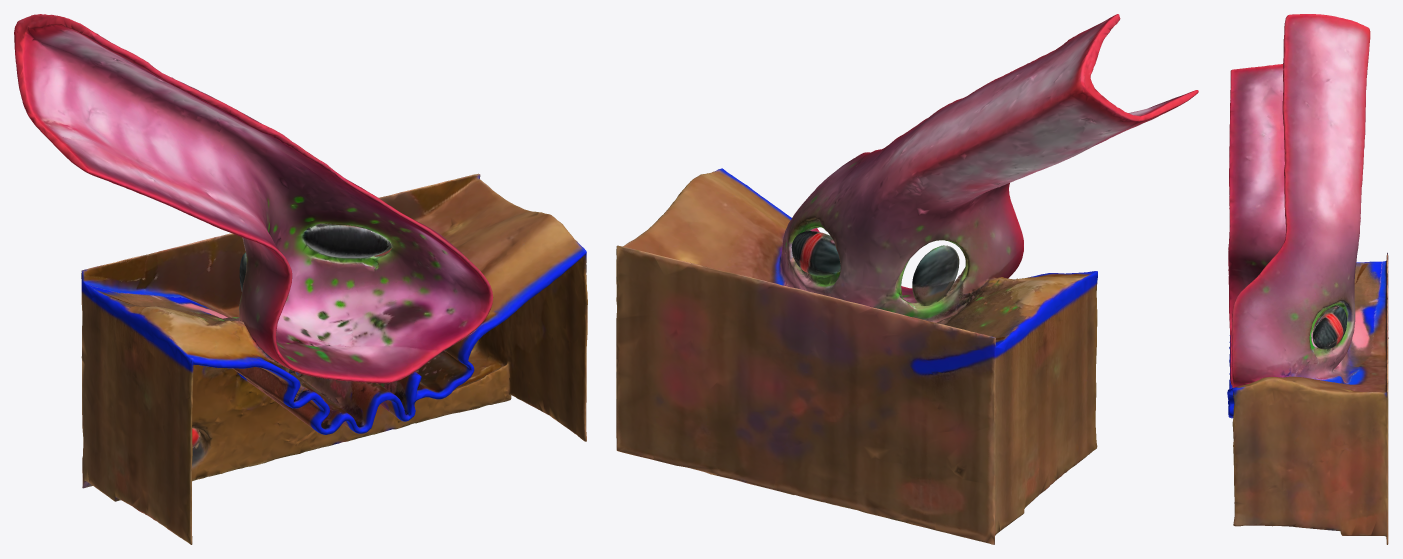
The model's file is neuromuscular-junction.glb.
The picture shows the model from 3 angles, left to right: view 1: azimuth 30°, elevation 25°; view 2: azimuth 150°, elevation 25°; view 3: azimuth 270°, elevation 25°; orthographic projection. The views are drawn at different scales.
Parts seen in each view (by area): view 1: Object_4; view 2: Object_4; view 3: Object_4.
Part boxes in pixels (x1,y1,x2,y2): Object_4: [14, 14, 587, 544]; Object_4: [616, 14, 1198, 544]; Object_4: [1227, 14, 1388, 544].
Size of the model in its own units: 1.9 by 1.88 by 0.7359.
Materials: 1 (1 with a texture image).
